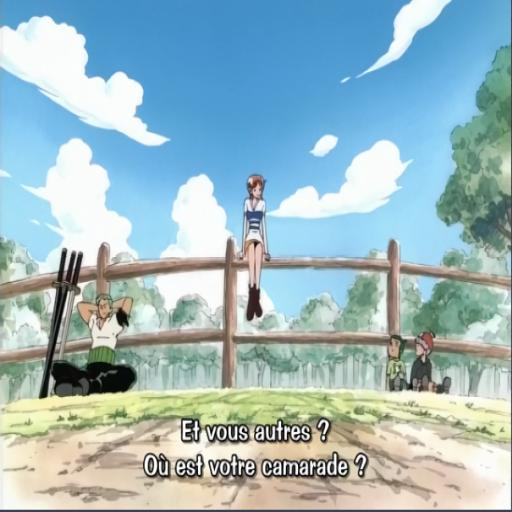Nami: (225, 172, 286, 320)
Zoro: (30, 262, 146, 412)
